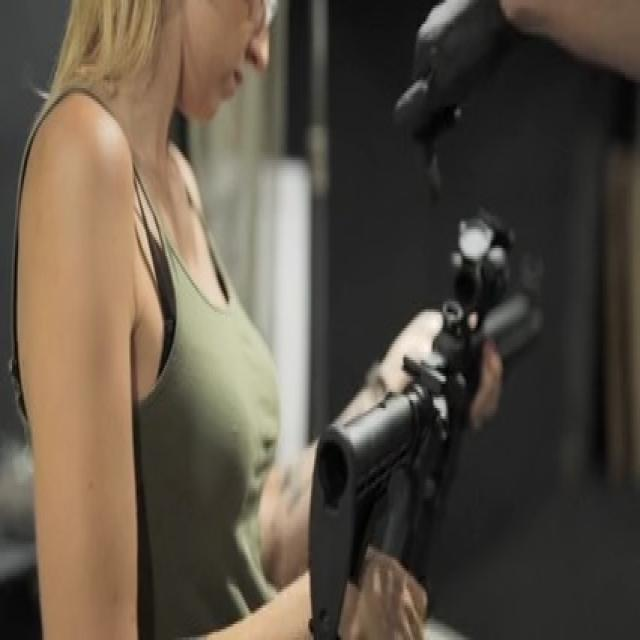Gun_Holder: (306, 184, 608, 640)
Person: (14, 0, 455, 640)
